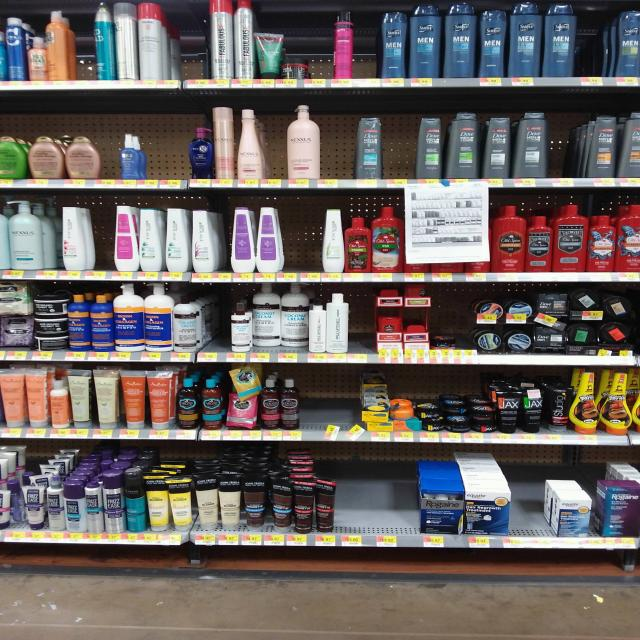void: (510, 451, 550, 548), (169, 1, 205, 89), (335, 448, 367, 546), (147, 108, 186, 187), (388, 448, 418, 546), (360, 448, 390, 546), (581, 6, 610, 86), (286, 208, 314, 282), (327, 371, 356, 441), (555, 112, 581, 187), (328, 102, 350, 188), (388, 111, 410, 188), (302, 372, 324, 441)
